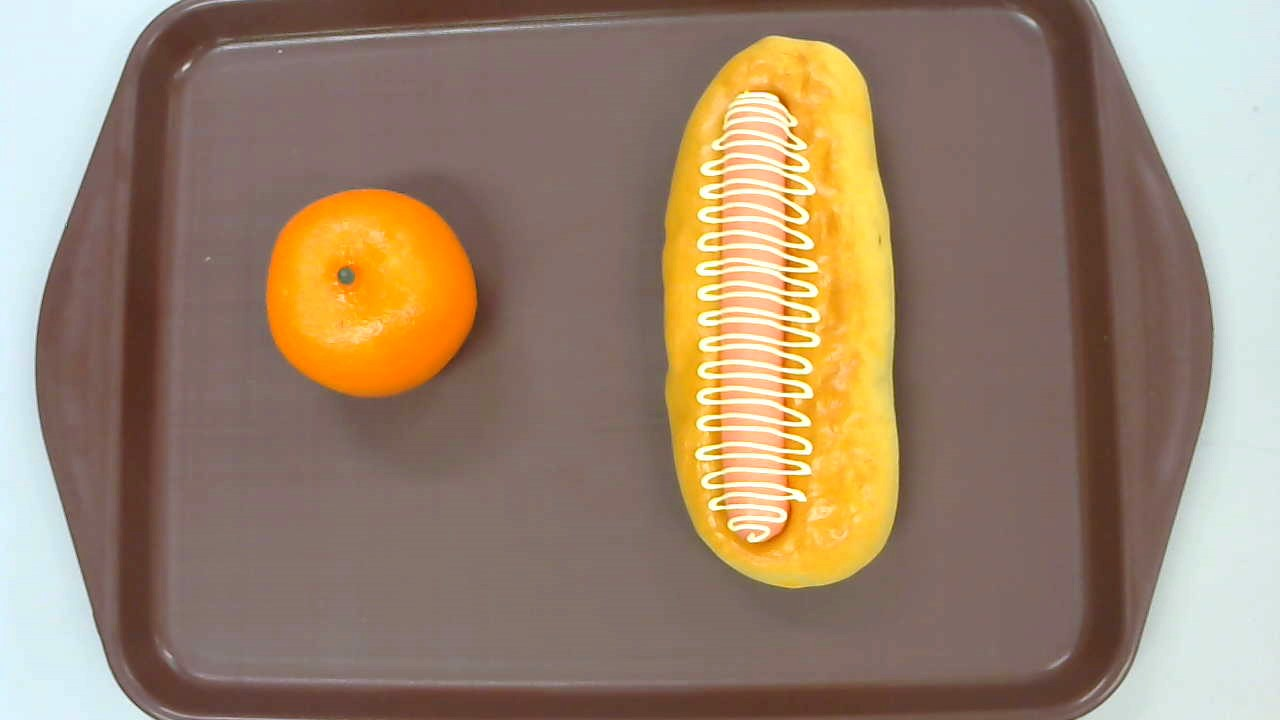hot dog: (660, 36, 900, 588)
orange: (265, 189, 478, 399)
